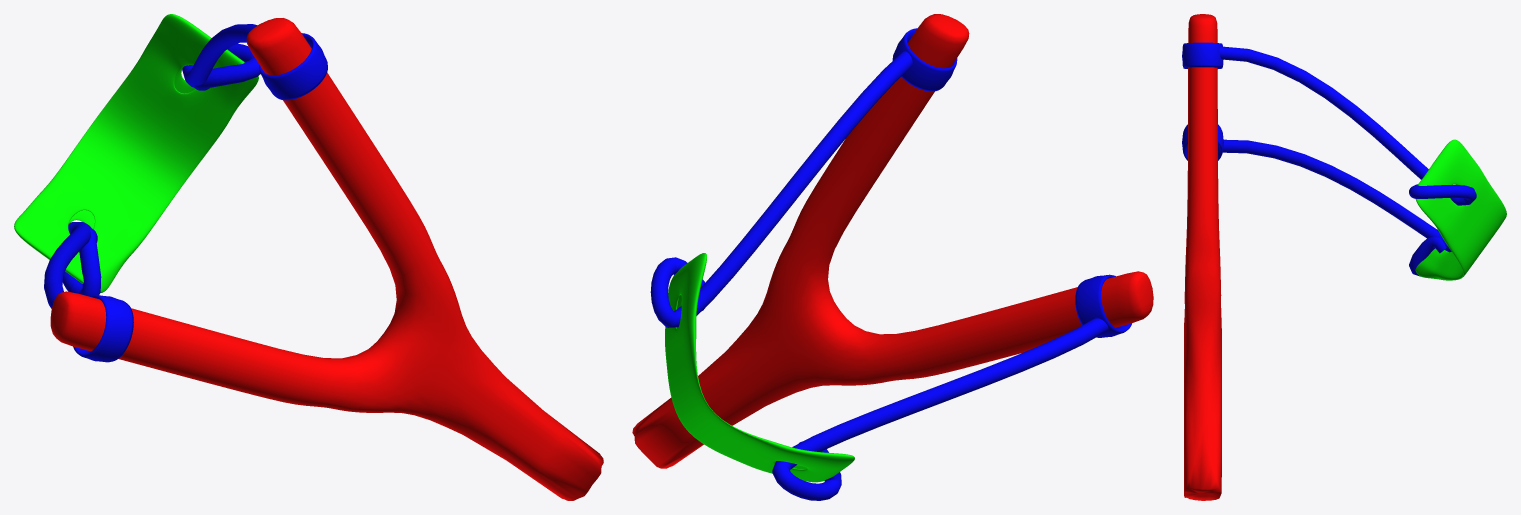
Rendered from Fionda_HP.fbx.
The picture shows the model from 3 angles, left to right: view 1: azimuth 30°, elevation 25°; view 2: azimuth 150°, elevation 25°; view 3: azimuth 270°, elevation 25°; orthographic projection. The views are drawn at different scales.
Parts seen in each view (by area): view 1: Fionda; view 2: Fionda; view 3: Fionda.
Part boxes in pixels (x1,y1,x2,y2): Fionda: (14, 14, 603, 500); Fionda: (632, 14, 1153, 500); Fionda: (1182, 14, 1506, 500).
Size of the model in its own units: 24.7 by 23.67 by 18.02.
